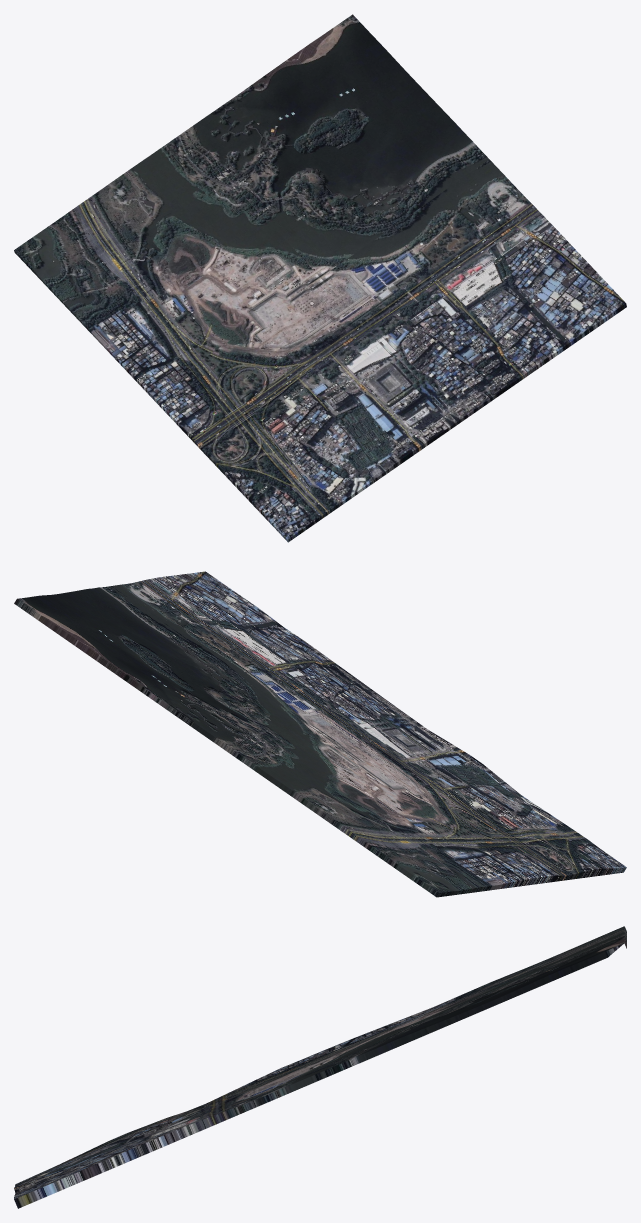
3 views of the same model, one above another, from view 1: azimuth 30°, elevation 25°; view 2: azimuth 150°, elevation 25°; view 3: azimuth 270°, elevation 25° (orthographic). The views are drawn at different scales.
Parts seen in each view (by area): view 1: 1_9_11; view 2: 1_9_11; view 3: 1_9_11.
Part boxes in pixels (x1,y1,x2,y2): 1_9_11: (14, 14, 626, 542); 1_9_11: (14, 571, 626, 897); 1_9_11: (14, 926, 626, 1208).
Size of the model in its own units: 1227 by 894 by 1127.
1 material, 1 textured.
